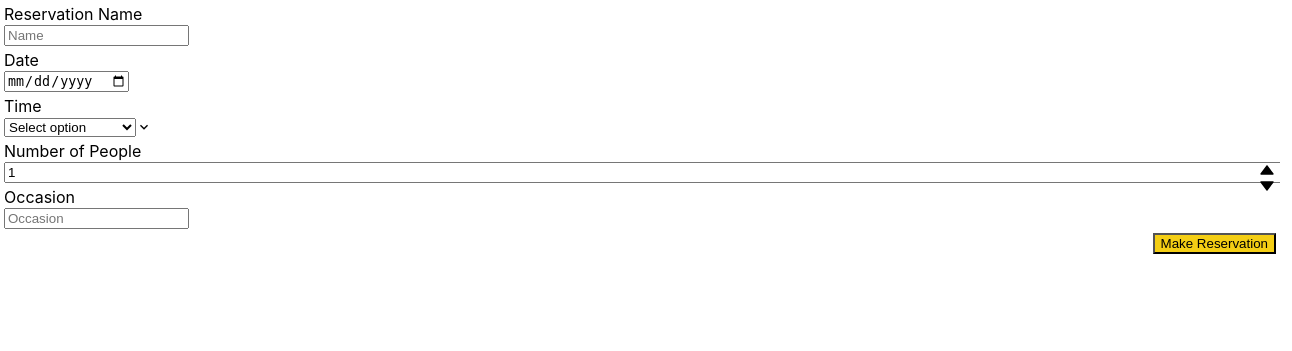
Test case: BookingForm › shows validation errors for empty fields
Click the button with test id "submit-button" at (1214, 244), box [1153,233,1276,254]
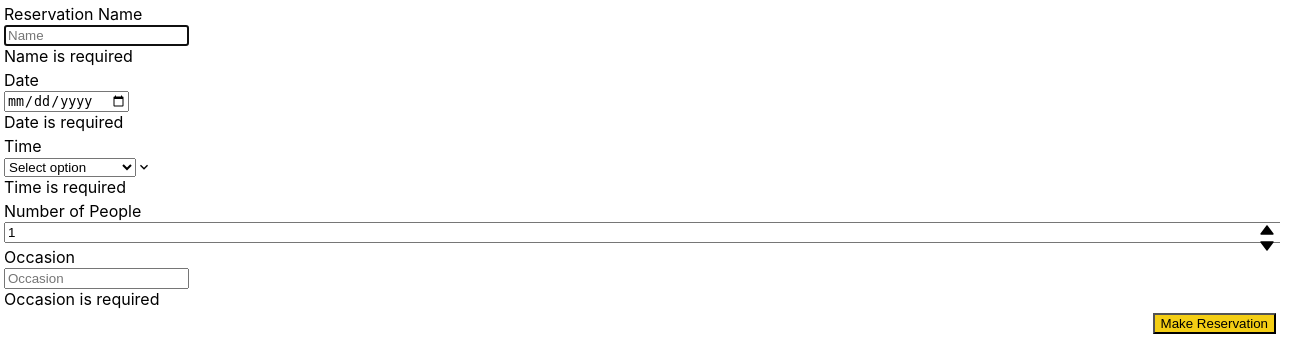
Now the text "Name is required" is shown, box [4,46,133,66]
Now the text "Date is required" is shown, box [4,112,123,132]
Now the text "Time is required" is shown, box [4,177,126,197]
